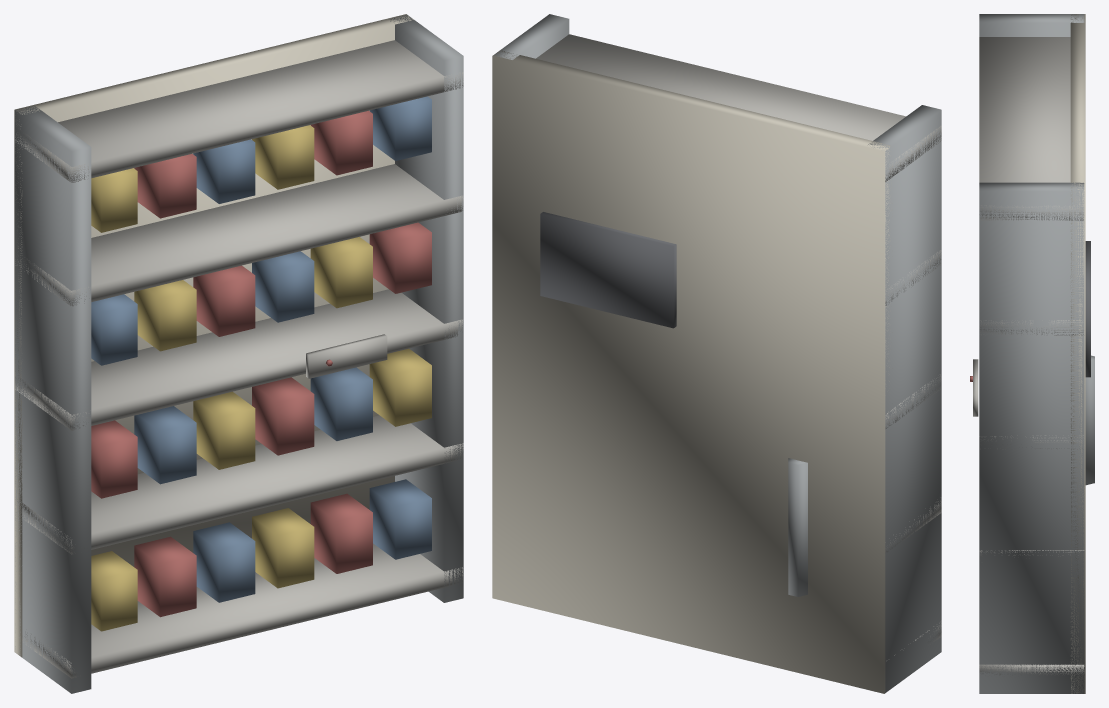
Rendered from pharmacy_shelf__service.glb.
The picture shows the model from 3 angles, left to right: view 1: azimuth 30°, elevation 25°; view 2: azimuth 150°, elevation 25°; view 3: azimuth 270°, elevation 25°; orthographic projection. The views are drawn at different scales.
Visible parts, largest first — view 1: world; view 2: world; view 3: world.
Part boxes in pixels (left/top/right/bottom): world: left=14, top=14, right=463, bottom=693; world: left=492, top=14, right=941, bottom=693; world: left=970, top=14, right=1094, bottom=693.
Size of the model in its own units: 1.4 by 1.85 by 0.4163.
